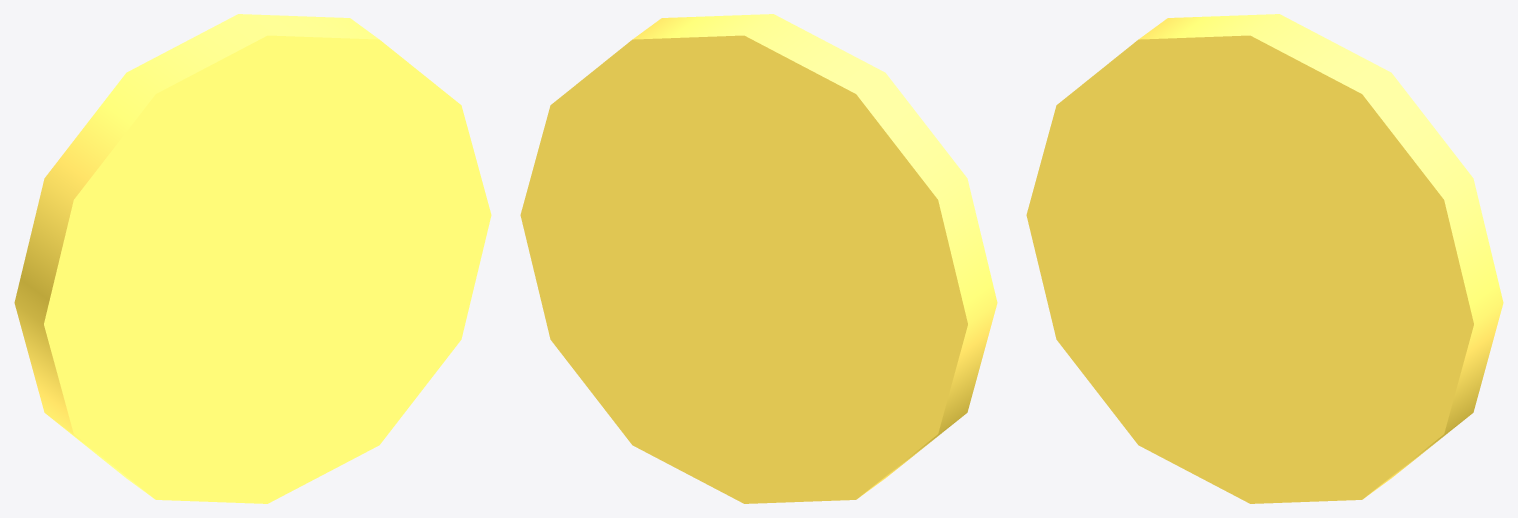
The model's file is coin.glb.
3 renders of one model, left to right at view 1: azimuth 30°, elevation 25°; view 2: azimuth 150°, elevation 25°; view 3: azimuth 330°, elevation 25°, orthographic.
Visible parts, largest first — view 1: coin; view 2: coin; view 3: coin.
Part boxes in pixels (bbox=[...]): coin: bbox=[14, 14, 491, 503]; coin: bbox=[520, 14, 997, 503]; coin: bbox=[1026, 14, 1503, 503].
Size of the model in its own units: 0.44 by 0.44 by 0.05.
